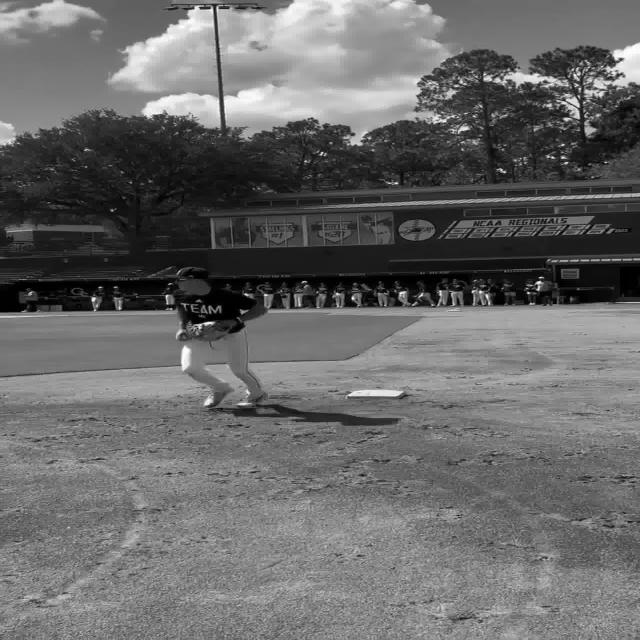base: (347, 389, 407, 399)
baseball_glove: (187, 319, 240, 341)
shoe: (202, 386, 233, 408), (236, 392, 271, 409)
